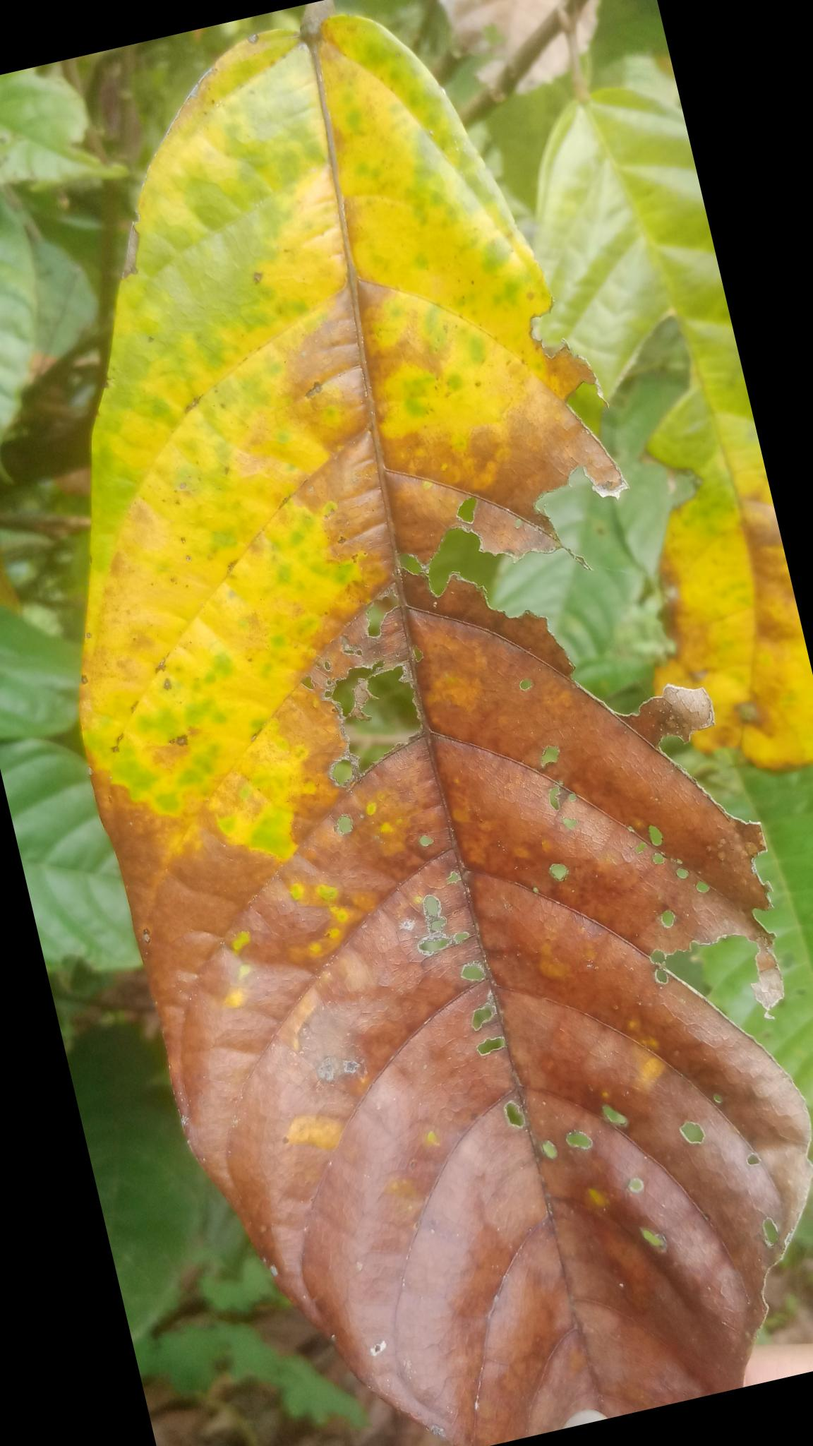Fosforo: (78, 6, 813, 1446)
